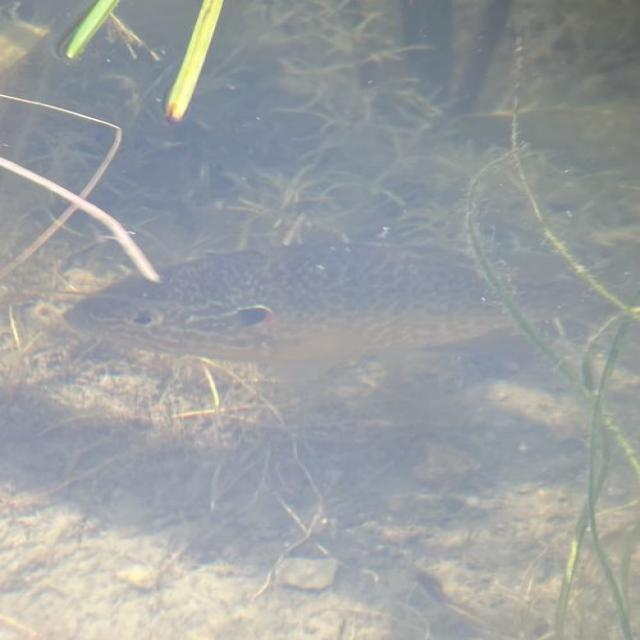Gunes Levregi: (58, 239, 632, 376)
